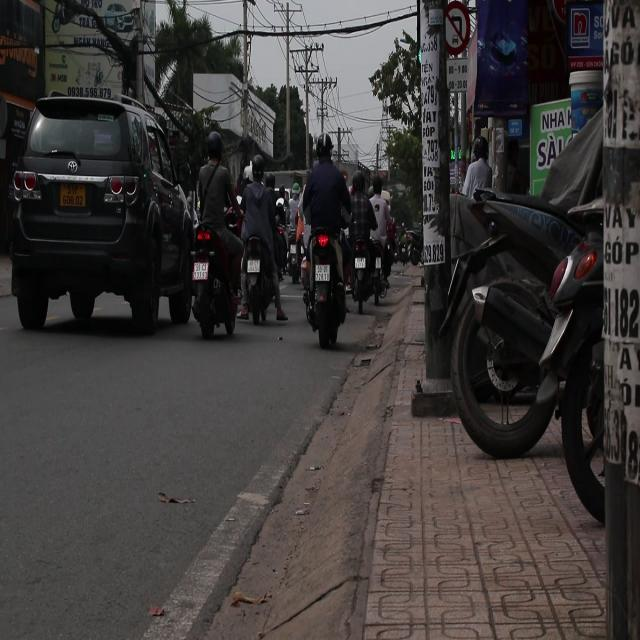car: (10, 95, 196, 331)
motorbike: (298, 212, 352, 352), (234, 212, 285, 357), (188, 212, 241, 342), (347, 225, 390, 311)
